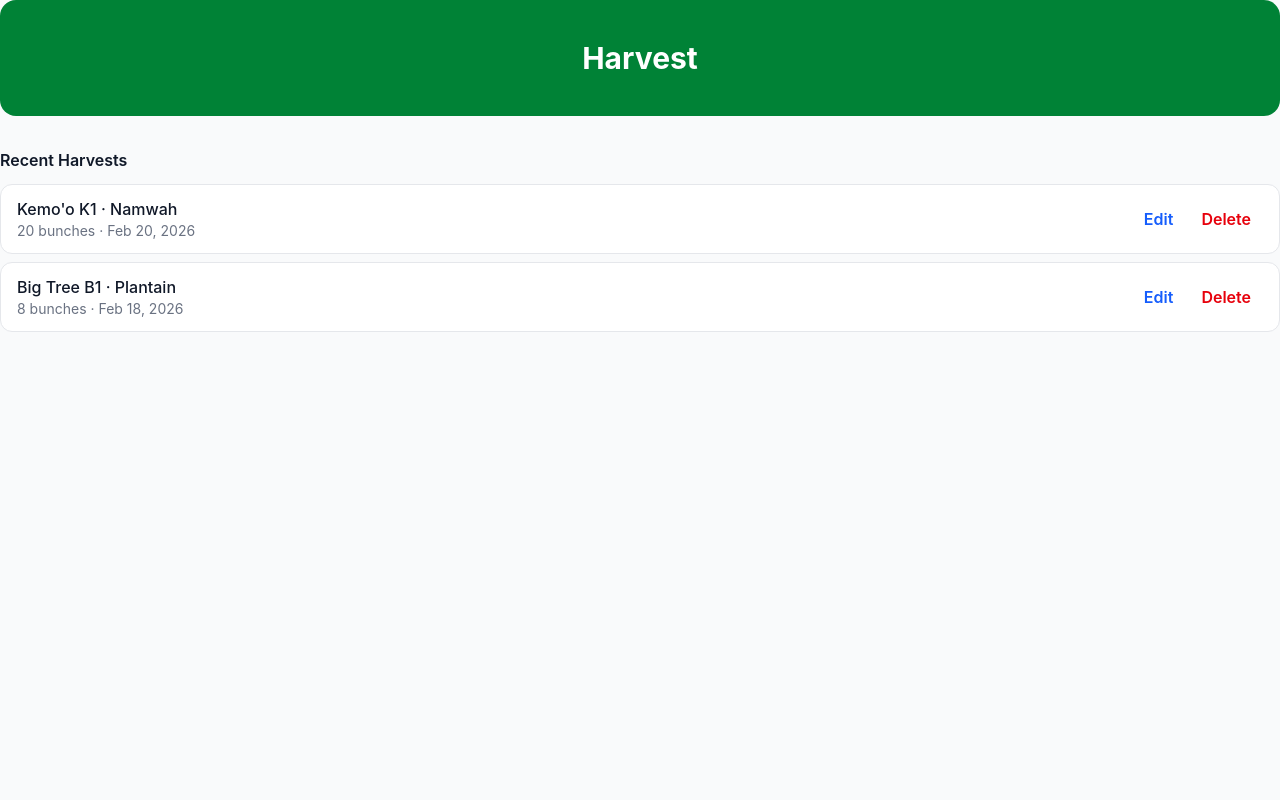
field selection overlay › shows 'Which field?' heading after clicking Harvest button
The width and height of the screenshot is (1280, 800).
Click the button "Harvest" at [640, 58], box 0,0 -> 1279,116
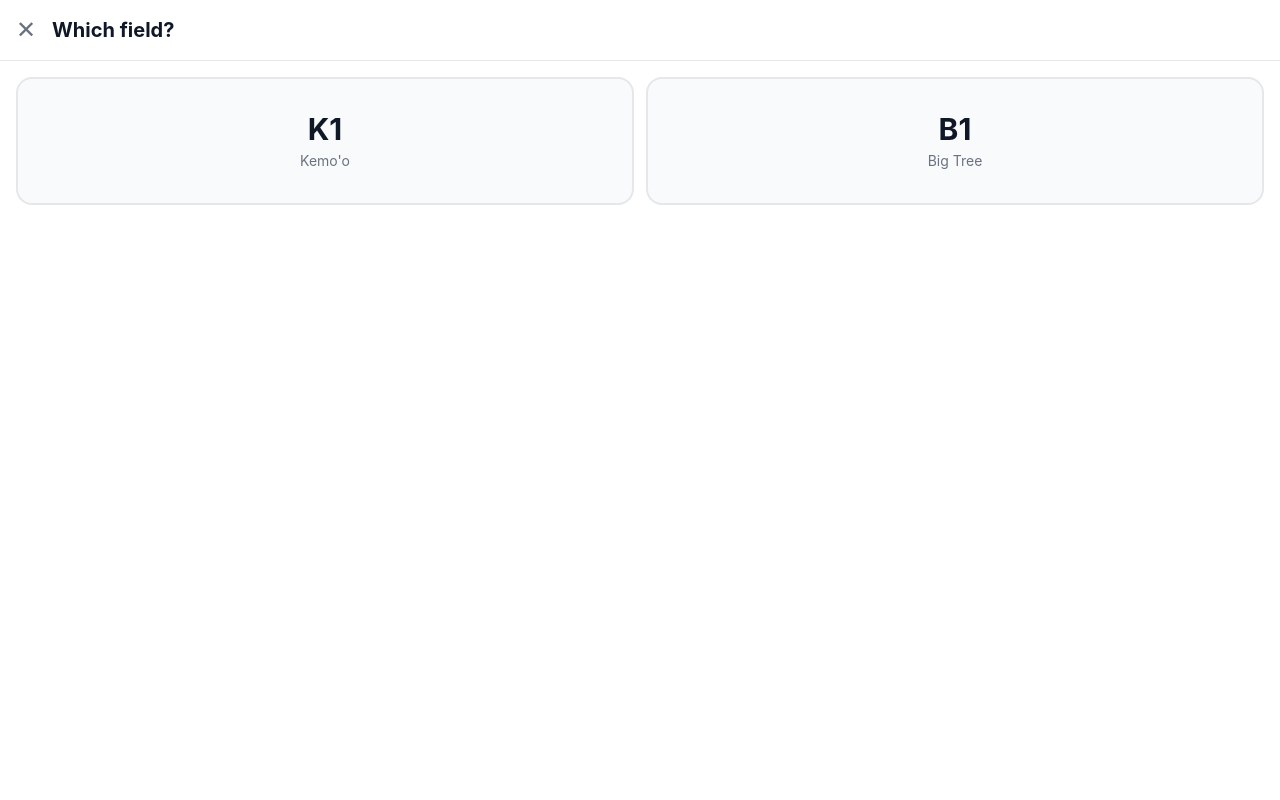
Expected: the heading "Which field?" is shown, 52,16 -> 174,44
